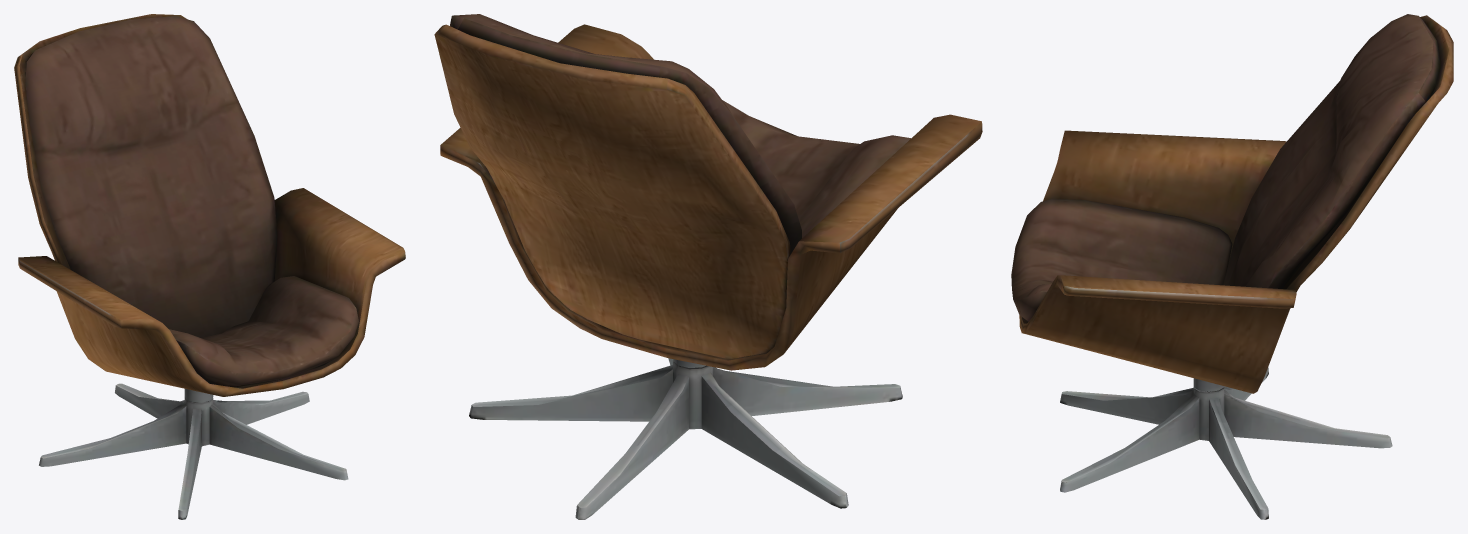
File: lounge_chair.glb
3 renders of one model, left to right at view 1: azimuth 30°, elevation 25°; view 2: azimuth 150°, elevation 25°; view 3: azimuth 270°, elevation 25°, orthographic. The views are drawn at different scales.
Visible parts, largest first — view 1: lounge_chair; view 2: lounge_chair; view 3: lounge_chair.
Part boxes in pixels (left/top/right/bottom): lounge_chair: left=14, top=14, right=405, bottom=519; lounge_chair: left=434, top=14, right=982, bottom=519; lounge_chair: left=1011, top=14, right=1453, bottom=519.
Size of the model in its own units: 1.01 by 1.16 by 1.18.
Materials: 1 (1 with a texture image).
